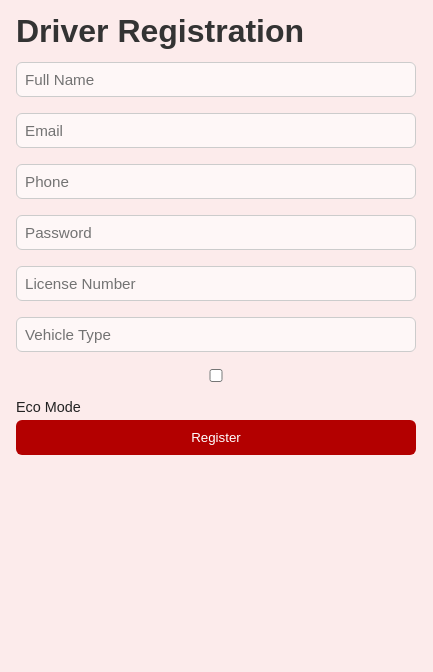
Test: DriverRegistrationForm Component › clears previous error and displays success after retry
Type "Alice" into the field with placeholder "Full Name".
click(216, 80); type("Alice")  # box [16, 62, 416, 97]
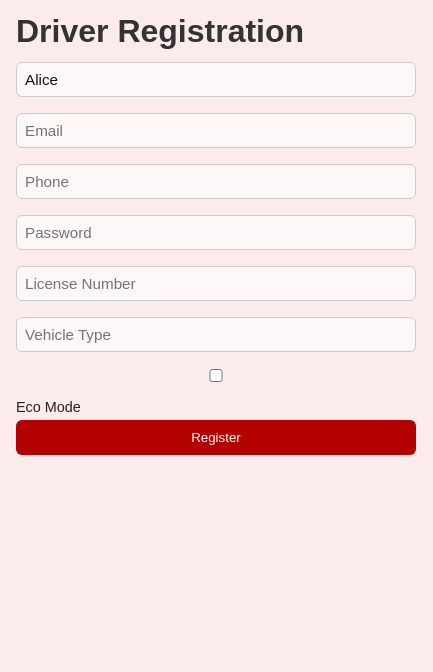
Type "alice@example.com" into the field with placeholder "Email".
click(216, 131); type("alice@example.com")  # box [16, 113, 416, 148]
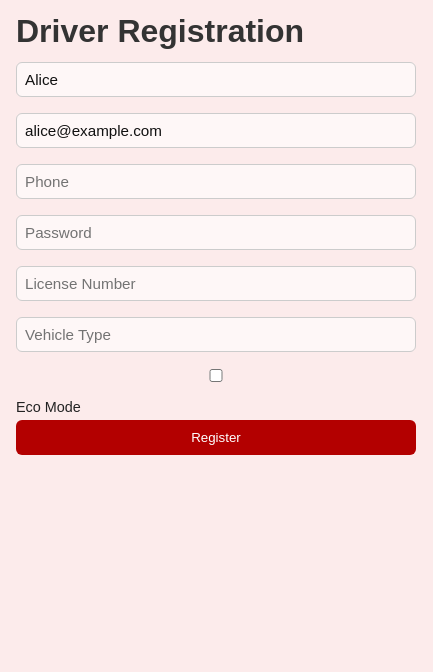
Type "5556667777" into the field with placeholder "Phone".
click(216, 182); type("5556667777")  # box [16, 164, 416, 199]
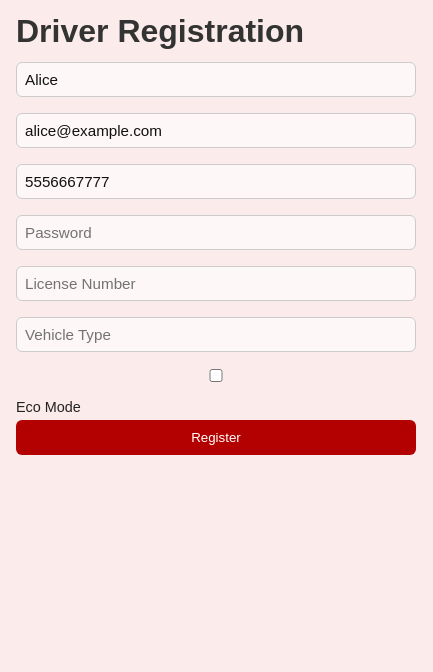
# First submit — failure
Click the button "Register".
click(216, 438)  # box [16, 420, 416, 455]
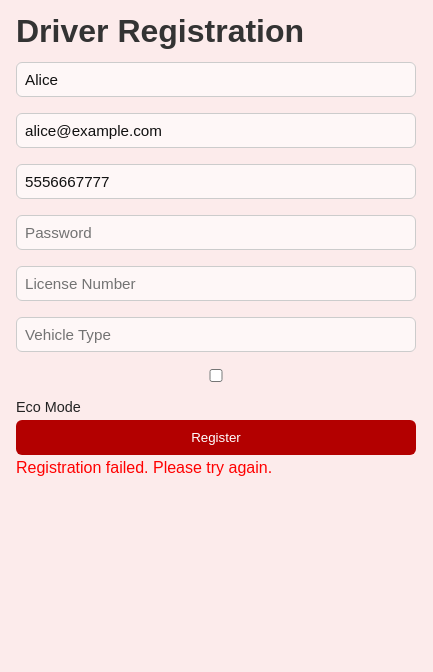
Check: the text "Registration failed. Please try again." is shown, box [16, 459, 272, 476]
# Second submit — success
Click the button "Register".
click(216, 438)  # box [16, 420, 416, 455]
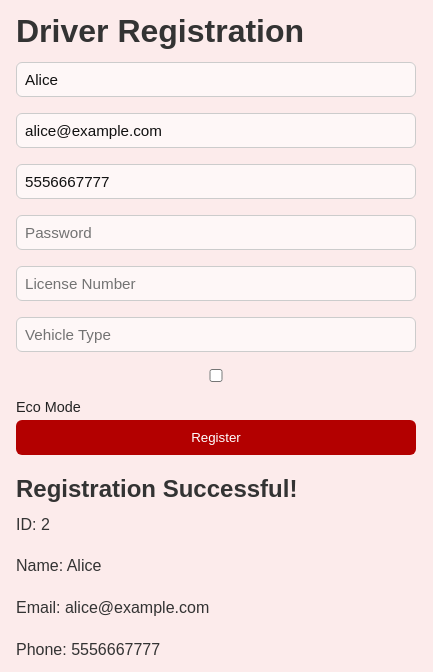
Check: the heading "Registration Successful!" is shown, box [16, 475, 297, 502]
